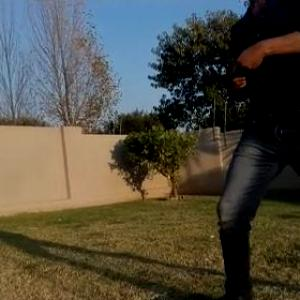follow: (194, 0, 300, 299)
